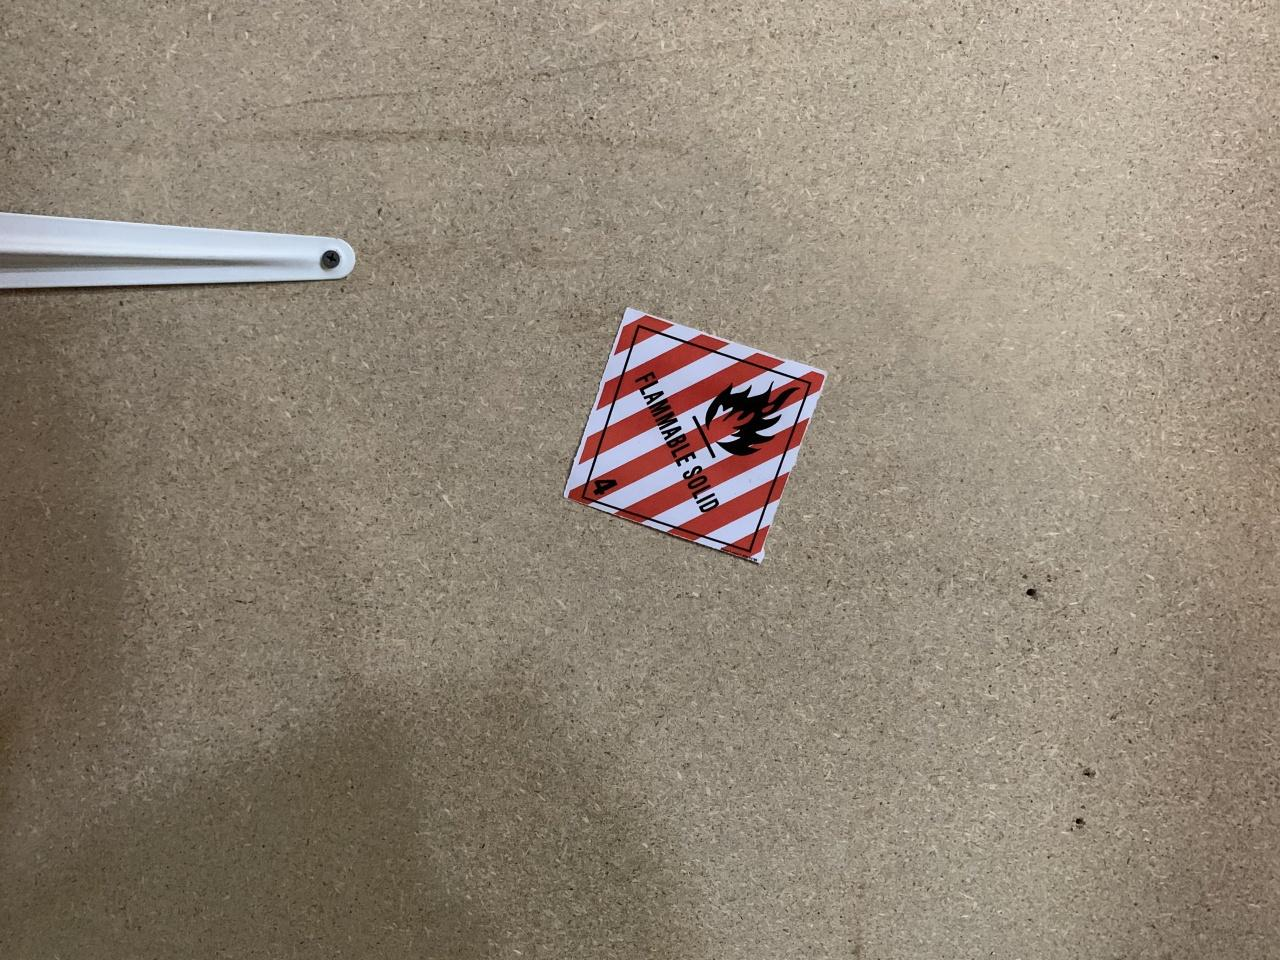flammable-solid: (577, 304, 825, 569)
